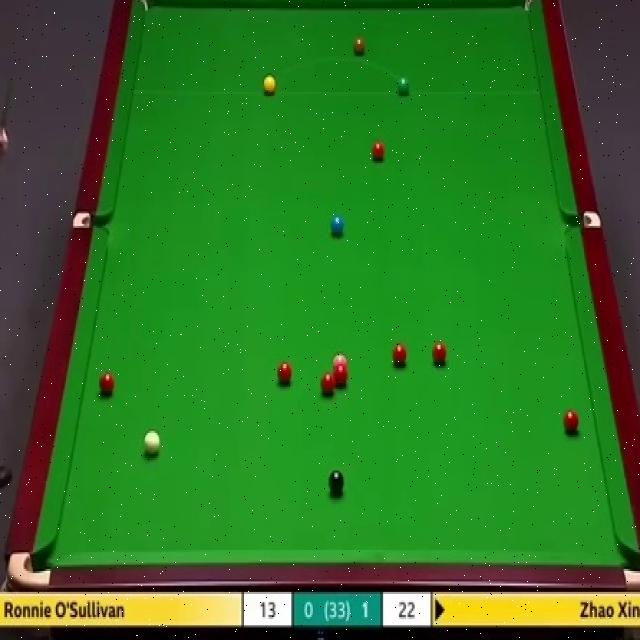black-ball: (328, 468, 347, 496)
blue-ball: (329, 213, 344, 237)
brown-ball: (352, 36, 366, 57)
green-ball: (396, 75, 410, 96)
pink-ball: (332, 354, 348, 368)
red-ball: (99, 370, 116, 398), (563, 411, 581, 434), (391, 343, 407, 367), (369, 140, 386, 162), (332, 365, 349, 387), (277, 362, 292, 385), (432, 342, 446, 366), (321, 374, 336, 395)
white-ball: (141, 430, 159, 457)
yellow-ball: (262, 73, 276, 95)
